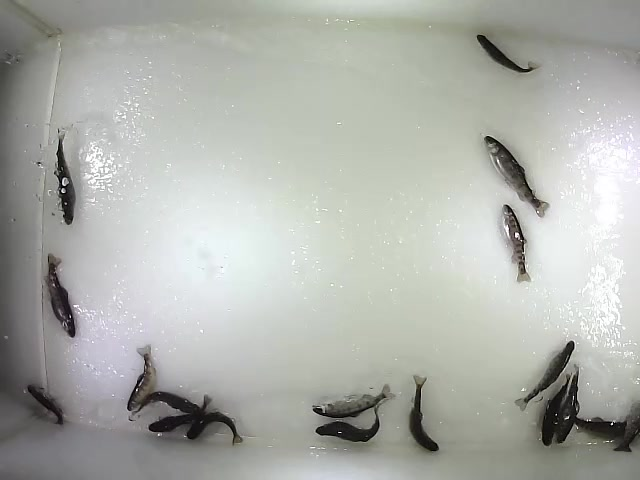fish: (483, 135, 551, 219), (514, 340, 577, 412), (311, 382, 398, 419), (42, 252, 78, 340), (315, 401, 387, 444), (127, 389, 208, 423), (476, 34, 542, 74), (148, 393, 213, 433), (500, 204, 532, 285), (540, 372, 573, 448), (408, 374, 440, 452), (53, 126, 77, 227), (126, 343, 159, 413), (556, 364, 582, 445), (185, 410, 243, 446), (26, 382, 65, 426)
